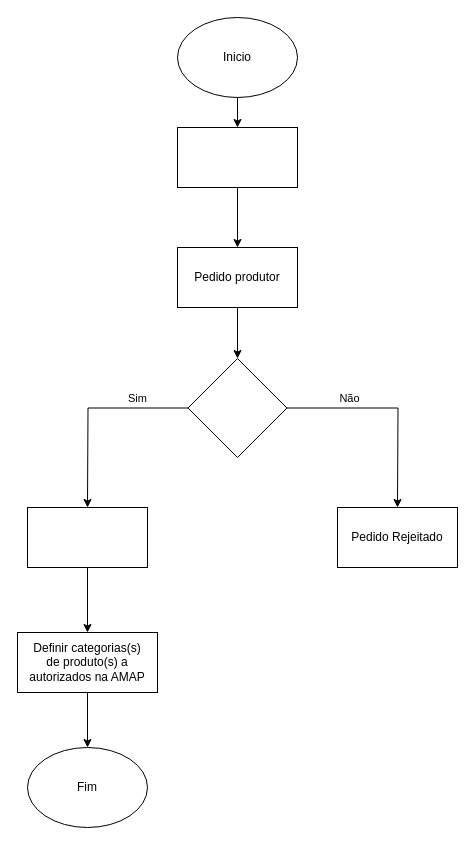
Image size: 475x845. Some labels were removed from this diagram. The shapes that lost their labels are listed below. From the top down, each one's centre as x and y in pixels, then its label:
(x=237, y=157): Gerir produtores AMAP
(x=237, y=408): Validar lista de produtos
(x=87, y=537): Pedido Produtor Aceite
